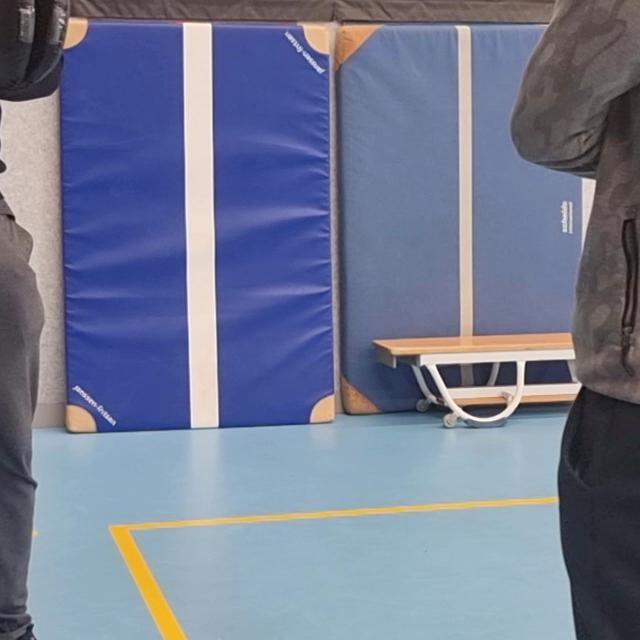paddle: (0, 0, 72, 91)
